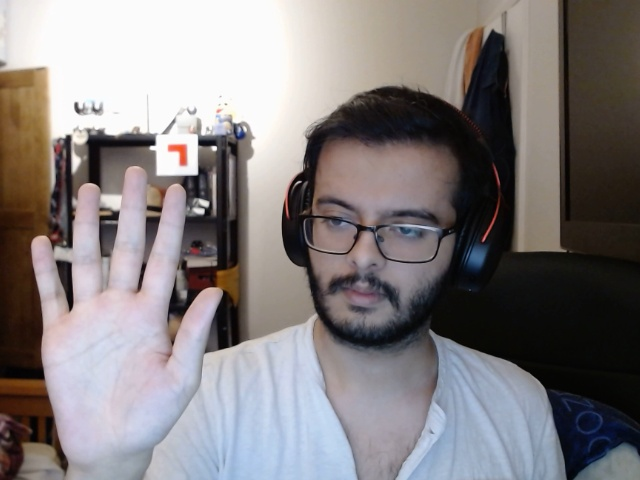Hello: (23, 155, 247, 465)
